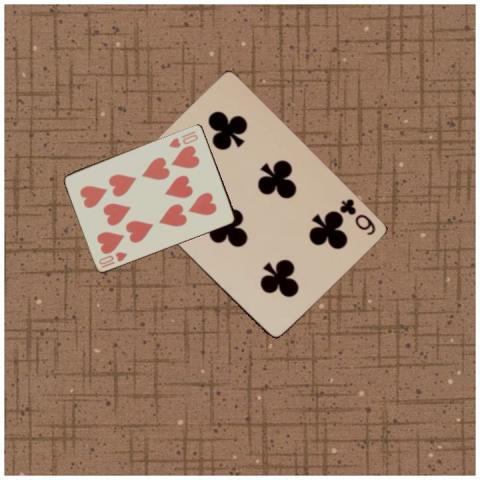10h: (166, 128, 199, 149), (96, 249, 129, 269)
6c: (336, 195, 377, 237)
